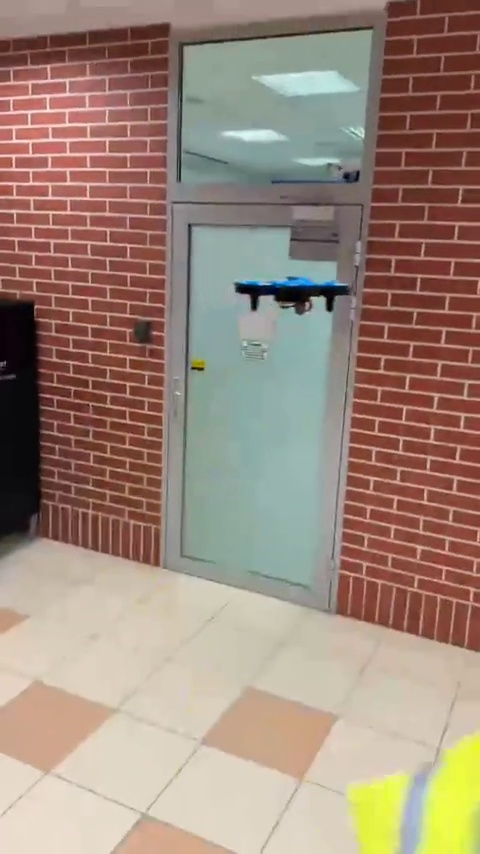drone: (233, 280, 357, 322)
